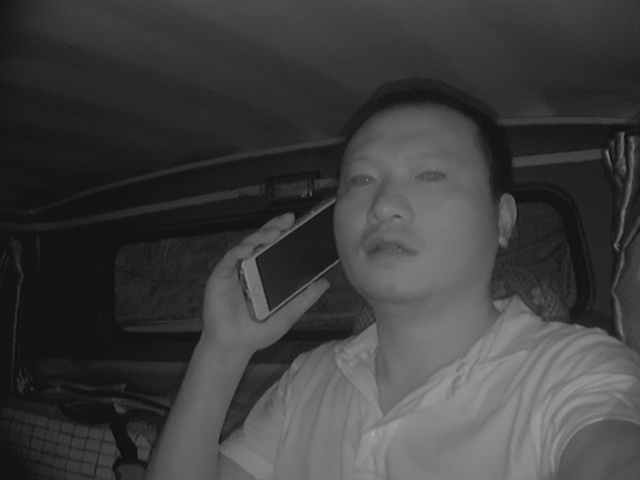hand: (206, 212, 308, 347)
